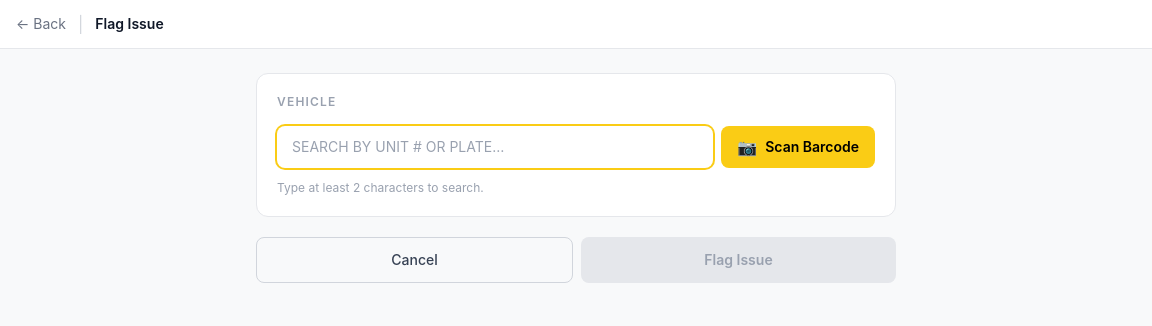
Test case: NewHoldForm — vehicle selection › shows search results for a matching unit number
Type "5500" into the field with placeholder "Search by unit # or plate…" at (495, 147), box [277,126,713,168]
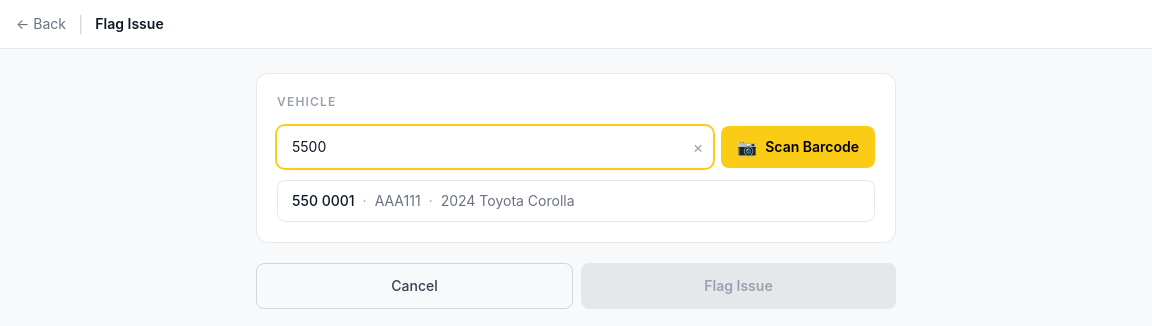
Now the text "550 0001" is shown, box [292,192,355,209]
